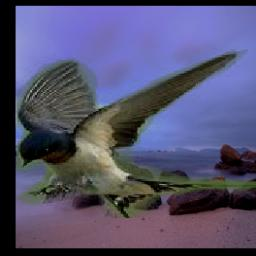Swallow: (16, 47, 256, 218)
